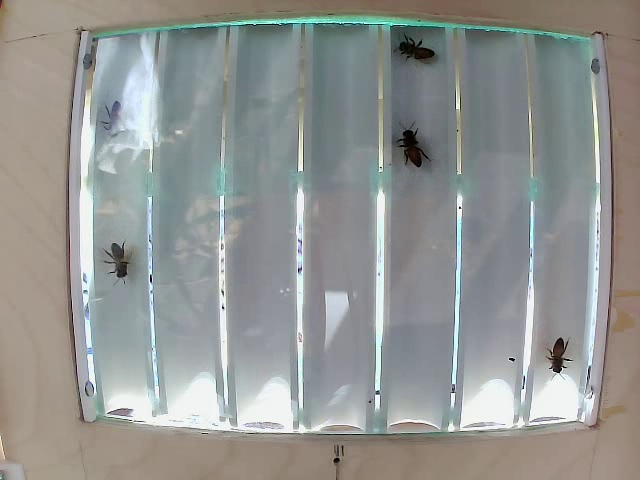bee: (95, 90, 155, 143), (543, 325, 590, 380), (387, 33, 439, 78), (395, 119, 432, 175), (103, 242, 145, 284)
